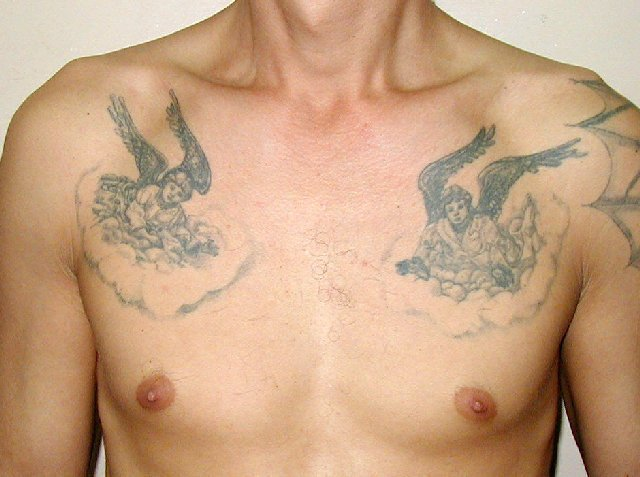tatu1_angel: (397, 121, 586, 310), (80, 85, 237, 275)
